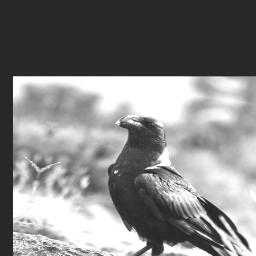Crow: (69, 108, 256, 256)
